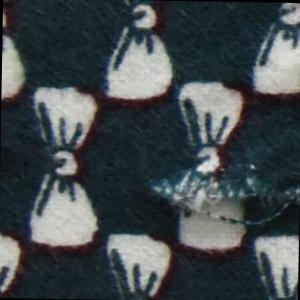Damage: (142, 158, 300, 230)
